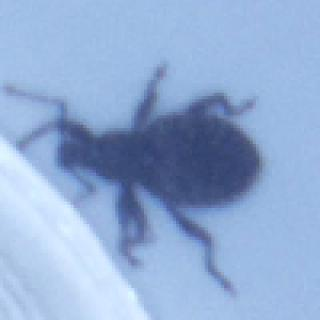bvw: (5, 61, 263, 298)
